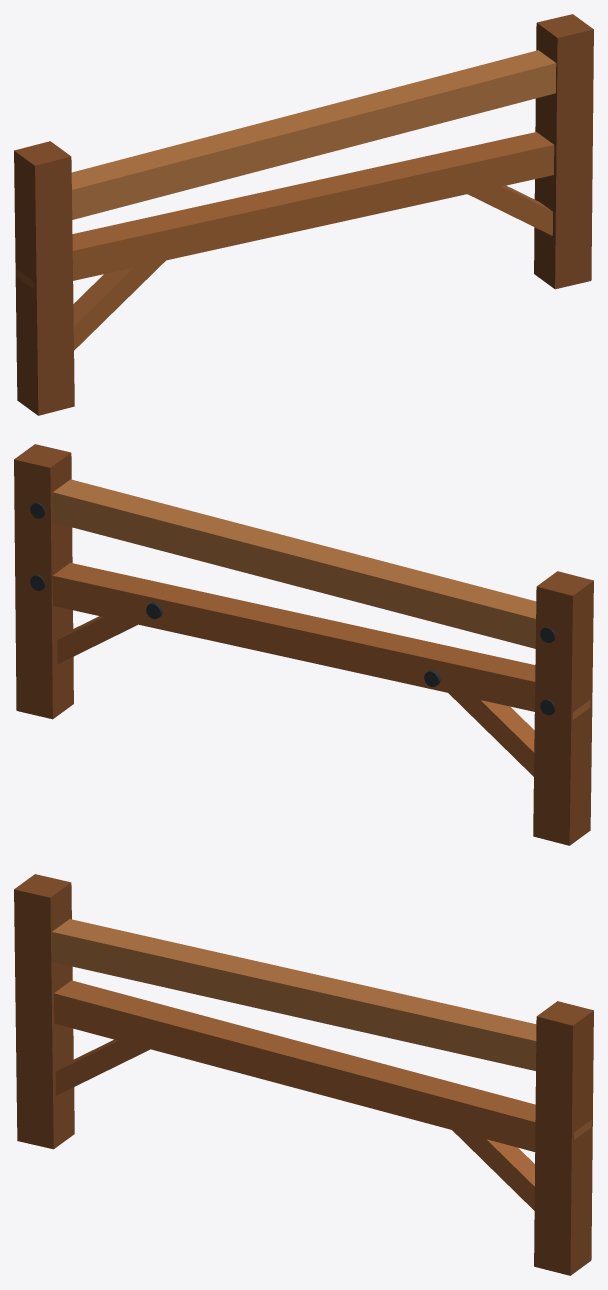
Rendered from WoodDuckGate.glb.
3 views of the same model, one above another, from view 1: azimuth 30°, elevation 25°; view 2: azimuth 150°, elevation 25°; view 3: azimuth 330°, elevation 25° (orthographic).
Visible parts, largest first — view 1: Plank_Upper, Plank_DuckObstacle, Post_Left, Post_Right, Brace_Left, Brace_Right; view 2: Plank_Upper, Plank_DuckObstacle, Post_Left, Post_Right, Brace_Left, Brace_Right; view 3: Plank_DuckObstacle, Plank_Upper, Post_Right, Post_Left, Brace_Right, Brace_Left.
Boxes of the visible parts, <box> form: Plank_Upper: <box>71,50,556,219</box>; Plank_DuckObstacle: <box>16,132,554,288</box>; Post_Left: <box>14,141,74,415</box>; Post_Right: <box>534,14,593,289</box>; Brace_Left: <box>73,260,165,350</box>; Brace_Right: <box>467,185,552,235</box>; Plank_Upper: <box>53,479,536,648</box>; Plank_DuckObstacle: <box>52,562,590,720</box>; Post_Left: <box>533,571,593,845</box>; Post_Right: <box>14,444,73,719</box>; Brace_Left: <box>448,693,534,776</box>; Brace_Right: <box>57,616,137,664</box>; Plank_DuckObstacle: <box>54,980,591,1151</box>; Plank_Upper: <box>52,919,536,1070</box>; Post_Right: <box>534,1001,593,1275</box>; Post_Left: <box>14,874,74,1149</box>; Brace_Right: <box>452,1130,534,1210</box>; Brace_Left: <box>55,1039,149,1095</box>.
Bounding box in the file's own units: 5.83 × 2.51 × 0.3975.
